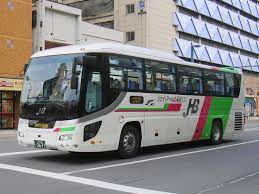bus: (18, 42, 245, 156)
